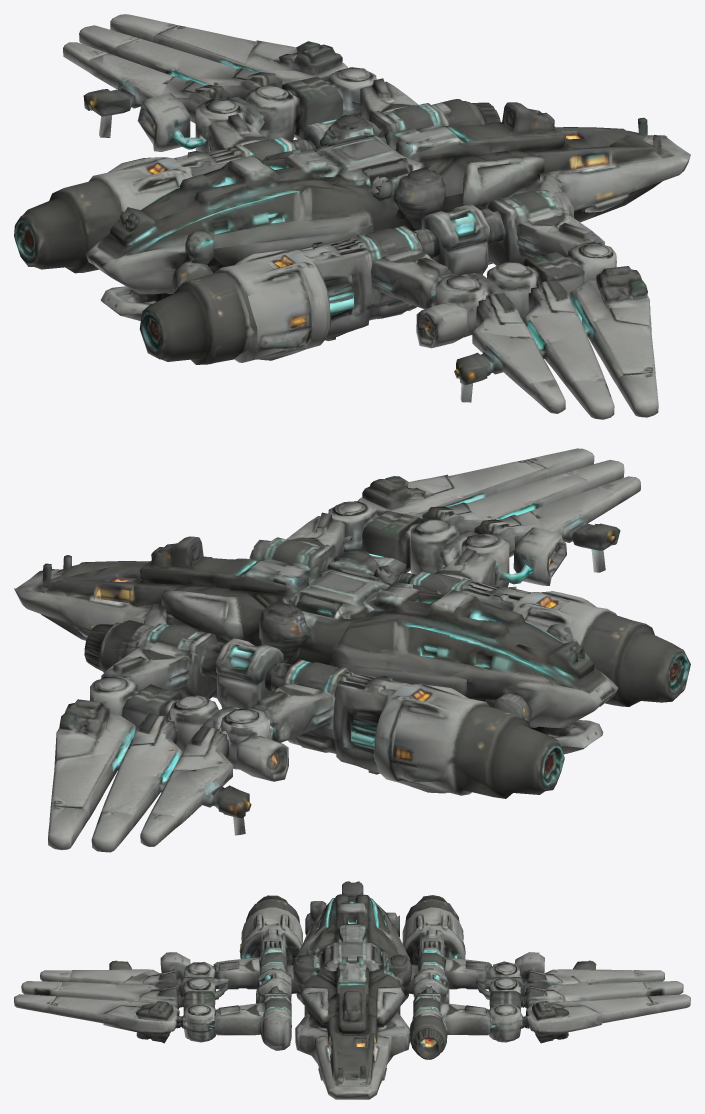
File: Nave9.glb
The picture shows the model from 3 angles, top to bottom: view 1: azimuth 30°, elevation 25°; view 2: azimuth 150°, elevation 25°; view 3: azimuth 270°, elevation 25°; orthographic projection. The views are drawn at different scales.
Parts seen in each view (by area): view 1: Ala Derecha, Fuselaje, Ala Izquierda; view 2: Ala Izquierda, Fuselaje, Ala Derecha; view 3: Ala Izquierda, Ala Derecha, Fuselaje.
Part boxes in pixels (<box>): Ala Derecha: <box>139,190,658,419</box>; Fuselaje: <box>85,102,690,320</box>; Ala Izquierda: <box>14,14,500,273</box>; Ala Izquierda: <box>48,620,564,852</box>; Fuselaje: <box>14,536,618,754</box>; Ala Derecha: <box>249,448,690,706</box>; Ala Izquierda: <box>402,895,690,1059</box>; Ala Derecha: <box>14,895,302,1050</box>; Fuselaje: <box>286,881,418,1099</box>.
Bounding box in the file's own units: 0.6284 × 0.1592 × 0.9792.
1 material, 1 textured.
